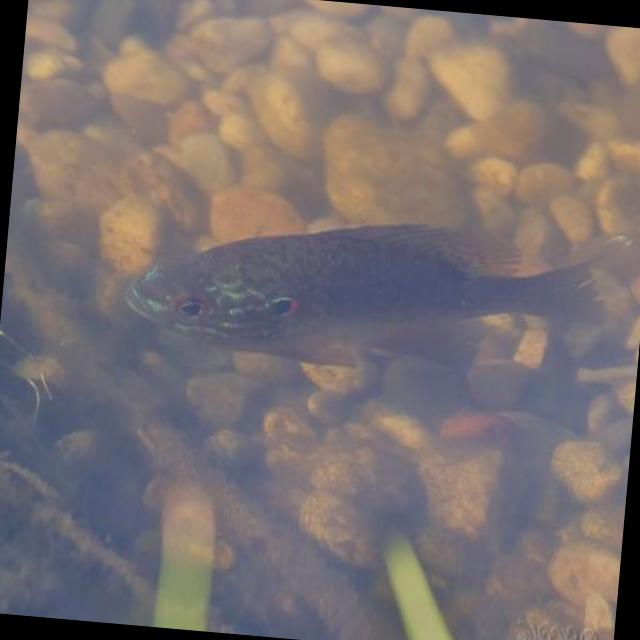Gunes Levregi: (111, 182, 628, 410)
